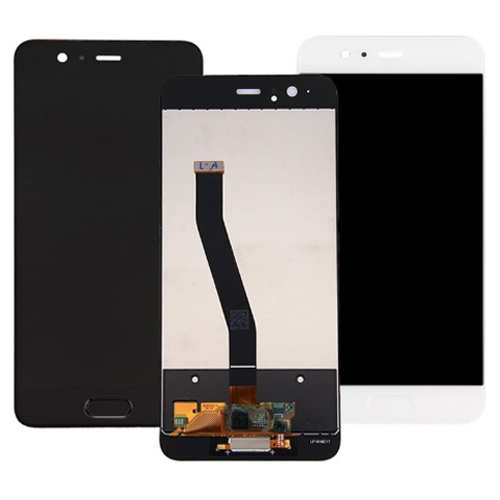Phone: (10, 37, 207, 430), (293, 32, 488, 428), (157, 72, 341, 463)
